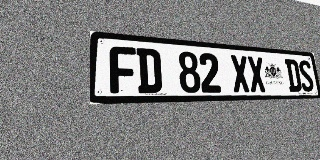2: (199, 52, 221, 93)
8: (178, 51, 201, 93)
D: (136, 48, 162, 93), (285, 59, 302, 92)
F: (109, 46, 137, 94)
S: (298, 60, 315, 92)
X: (230, 55, 251, 92), (247, 56, 267, 92)
